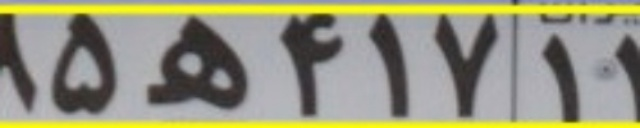1: (365, 12, 418, 118), (540, 34, 585, 122), (607, 32, 638, 121)
4: (277, 11, 345, 116)
5: (50, 13, 118, 113)
7: (433, 13, 500, 117)
8: (0, 11, 38, 112)
he: (143, 11, 255, 108)
